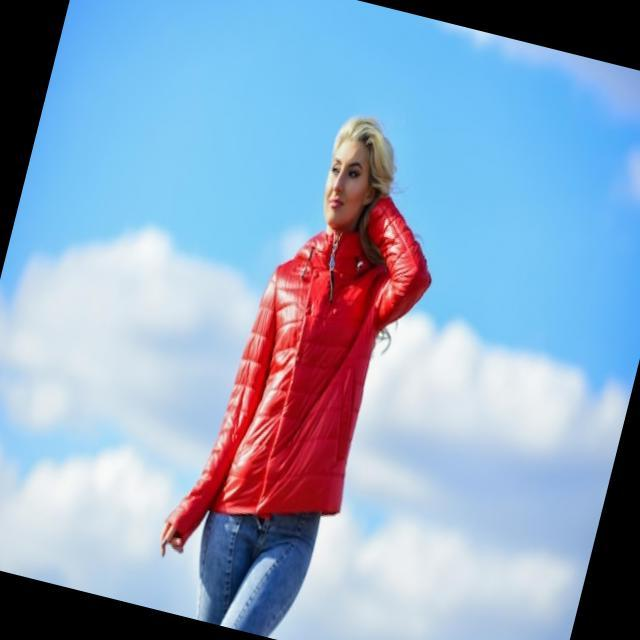coat: (156, 194, 434, 551)
trousers: (189, 505, 327, 640)
